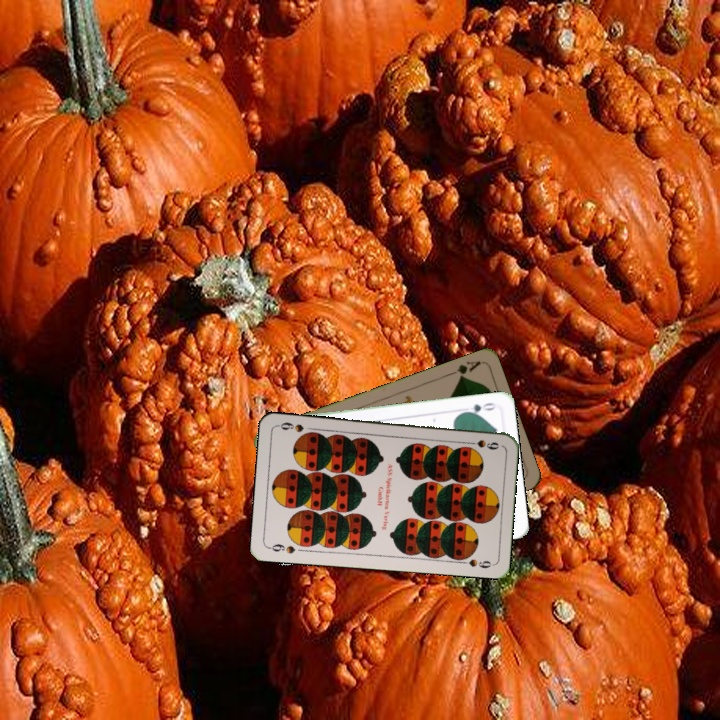GA: (444, 356, 483, 382)
GO: (458, 399, 498, 417)
S9: (462, 436, 502, 452), (265, 540, 298, 556)
